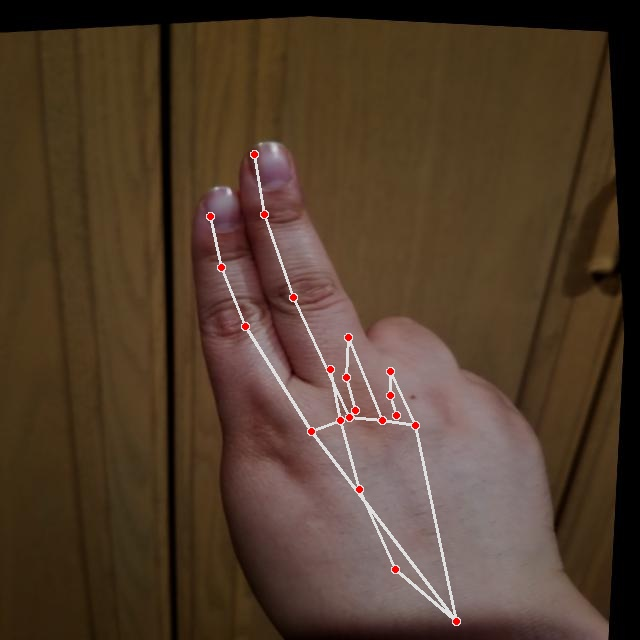U: (156, 95, 616, 639)
